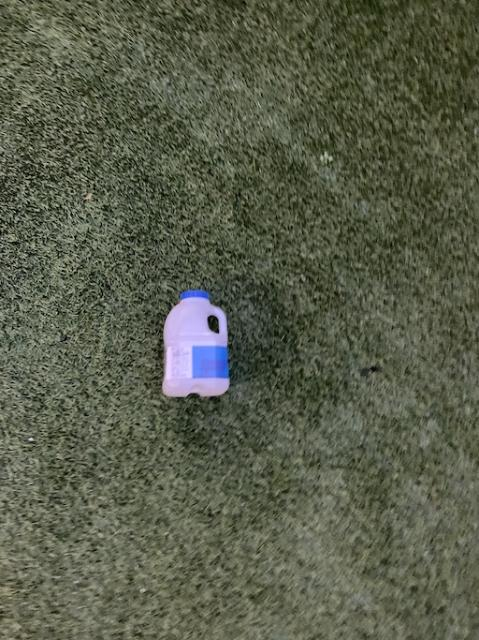plastic: (161, 290, 228, 395)
